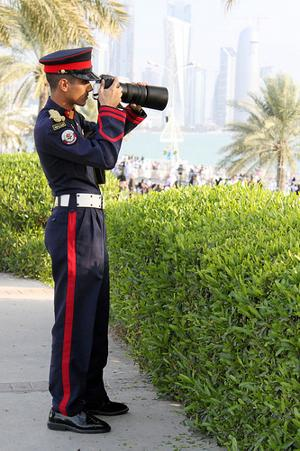person: (35, 49, 149, 436)
